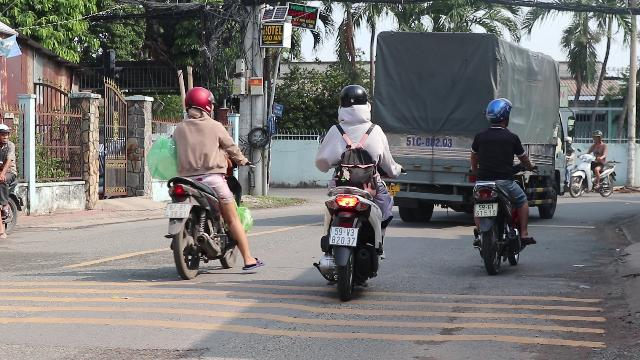helmet: (156, 81, 270, 280), (336, 84, 369, 124), (182, 86, 214, 118), (483, 98, 511, 128)
licenseplate: (330, 226, 358, 246), (165, 202, 189, 218), (474, 204, 498, 217)
motorcyclist: (310, 81, 398, 297), (465, 96, 537, 272)
